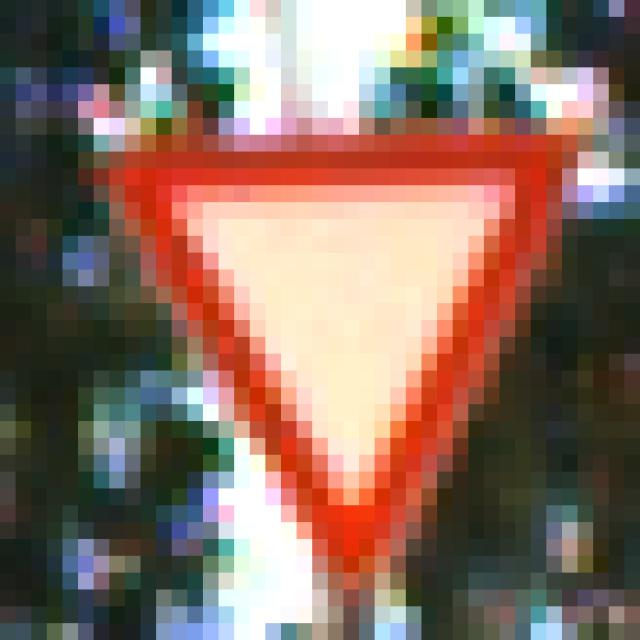Give Way: (95, 85, 563, 557)
